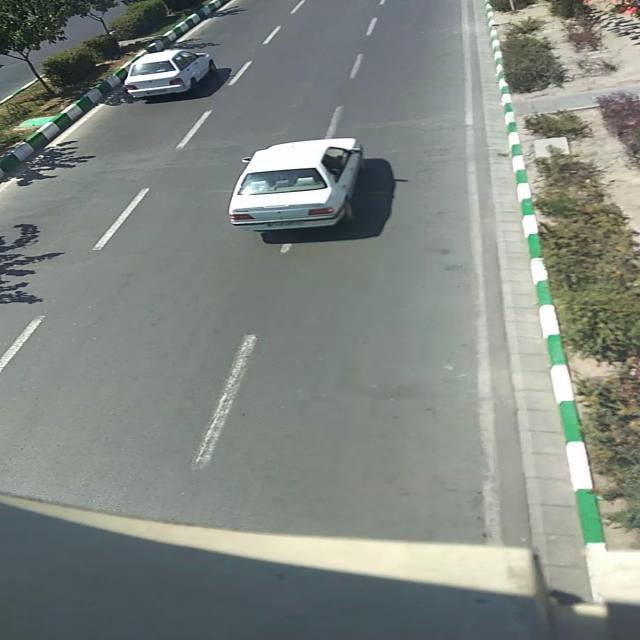car: (227, 136, 361, 232), (124, 47, 215, 101)
